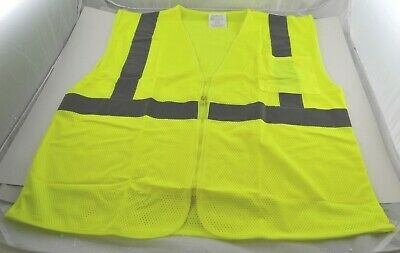safety vest: (32, 11, 395, 240)
